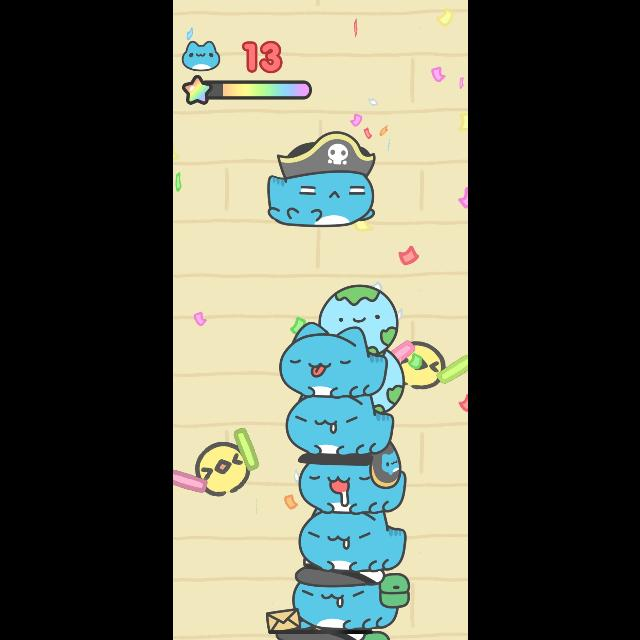capoo: (276, 282, 396, 398), (264, 132, 378, 228), (266, 568, 412, 630), (285, 398, 393, 457), (298, 514, 410, 570), (297, 458, 407, 514)
